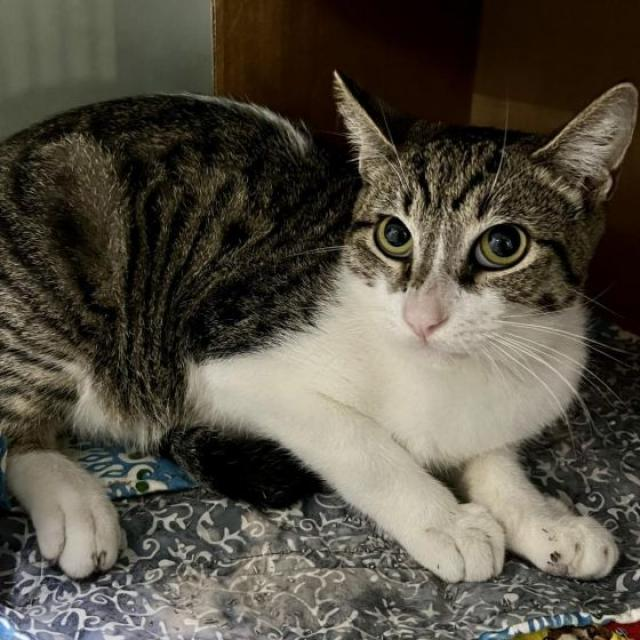domestic_short_hair_cat: (306, 44, 640, 425)
